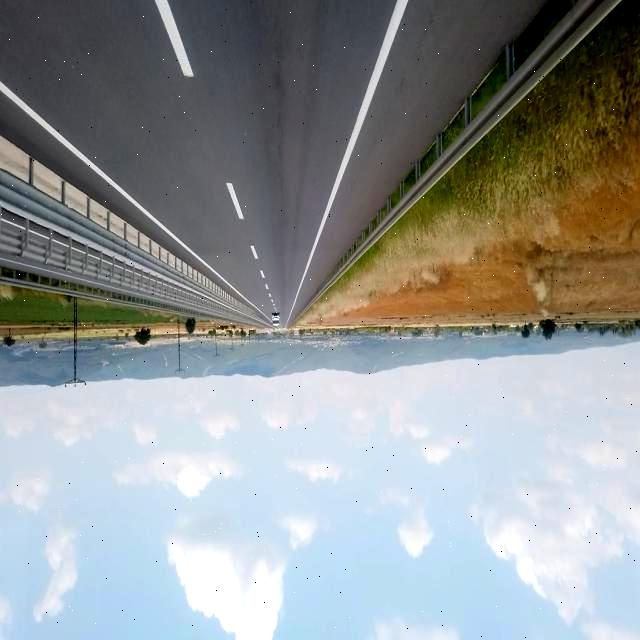lane: (1, 82, 252, 304), (305, 5, 409, 277), (155, 1, 192, 77)
road: (2, 1, 540, 324)
